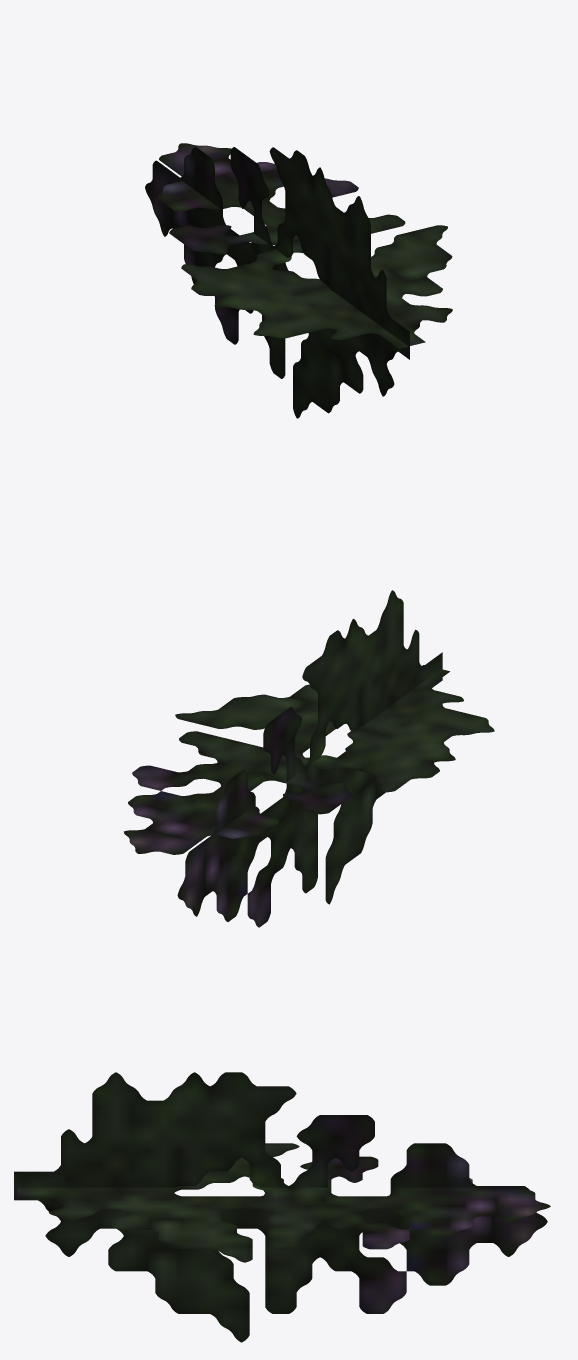
File: SM_EC_Plant_Card_Cross_22.fbx
The picture shows the model from 3 angles, top to bottom: view 1: azimuth 30°, elevation 25°; view 2: azimuth 150°, elevation 25°; view 3: azimuth 270°, elevation 25°; orthographic projection.
Parts seen in each view (by area): view 1: SM_EC_Plant_Card_Cross_22; view 2: SM_EC_Plant_Card_Cross_22; view 3: SM_EC_Plant_Card_Cross_22.
Part boxes in pixels (left/top/right/bottom): SM_EC_Plant_Card_Cross_22: left=145, top=143, right=452, bottom=418; SM_EC_Plant_Card_Cross_22: left=124, top=590, right=494, bottom=927; SM_EC_Plant_Card_Cross_22: left=14, top=1072, right=550, bottom=1342.
Bounding box in the file's own units: 0.322 × 0.5473 × 0.322.
